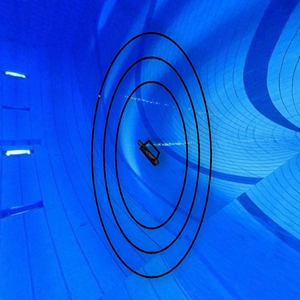circle: (90, 30, 220, 283)
submarine: (135, 139, 169, 170)
